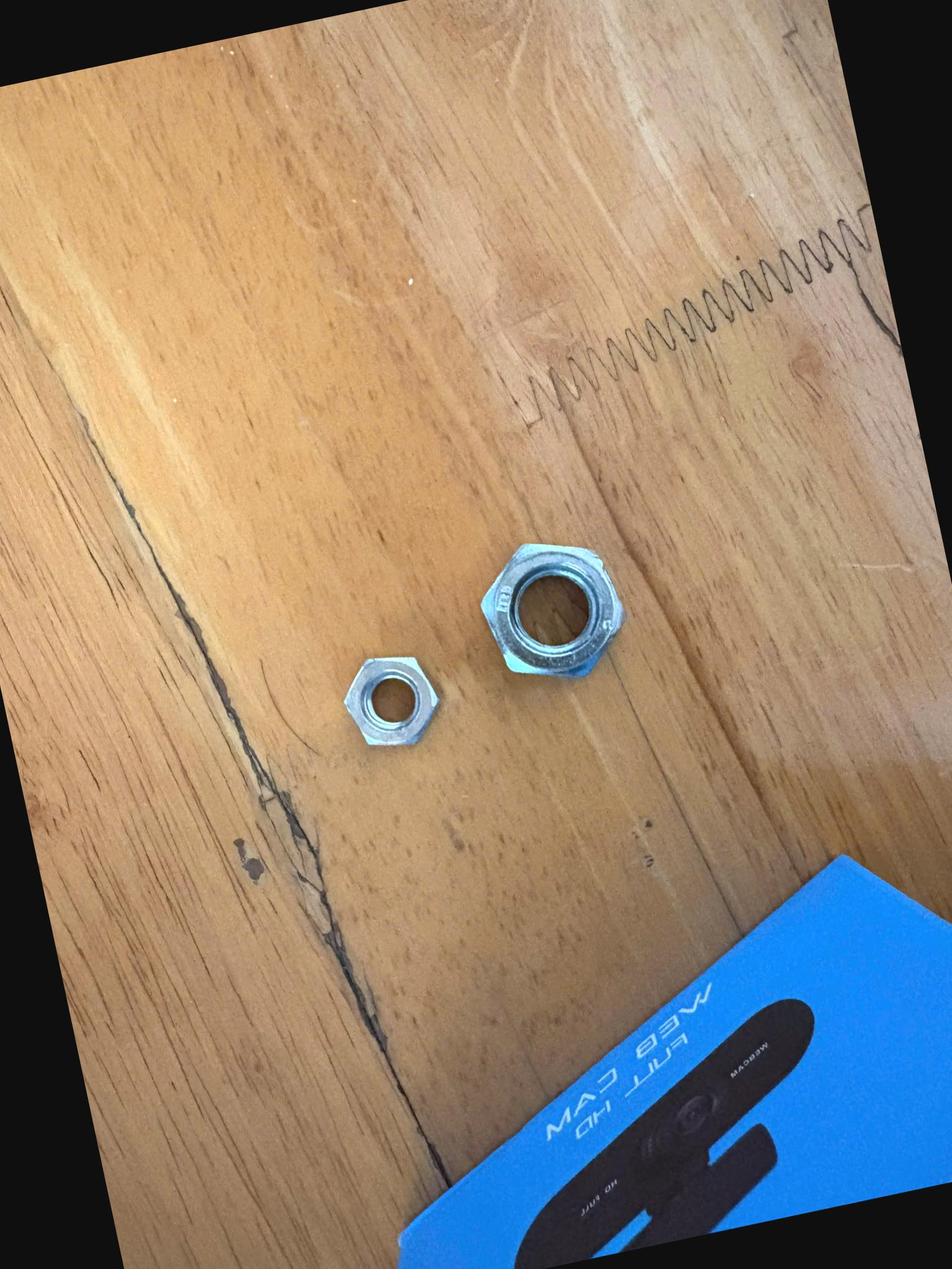nut: (450, 513, 658, 716), (317, 636, 459, 771)
